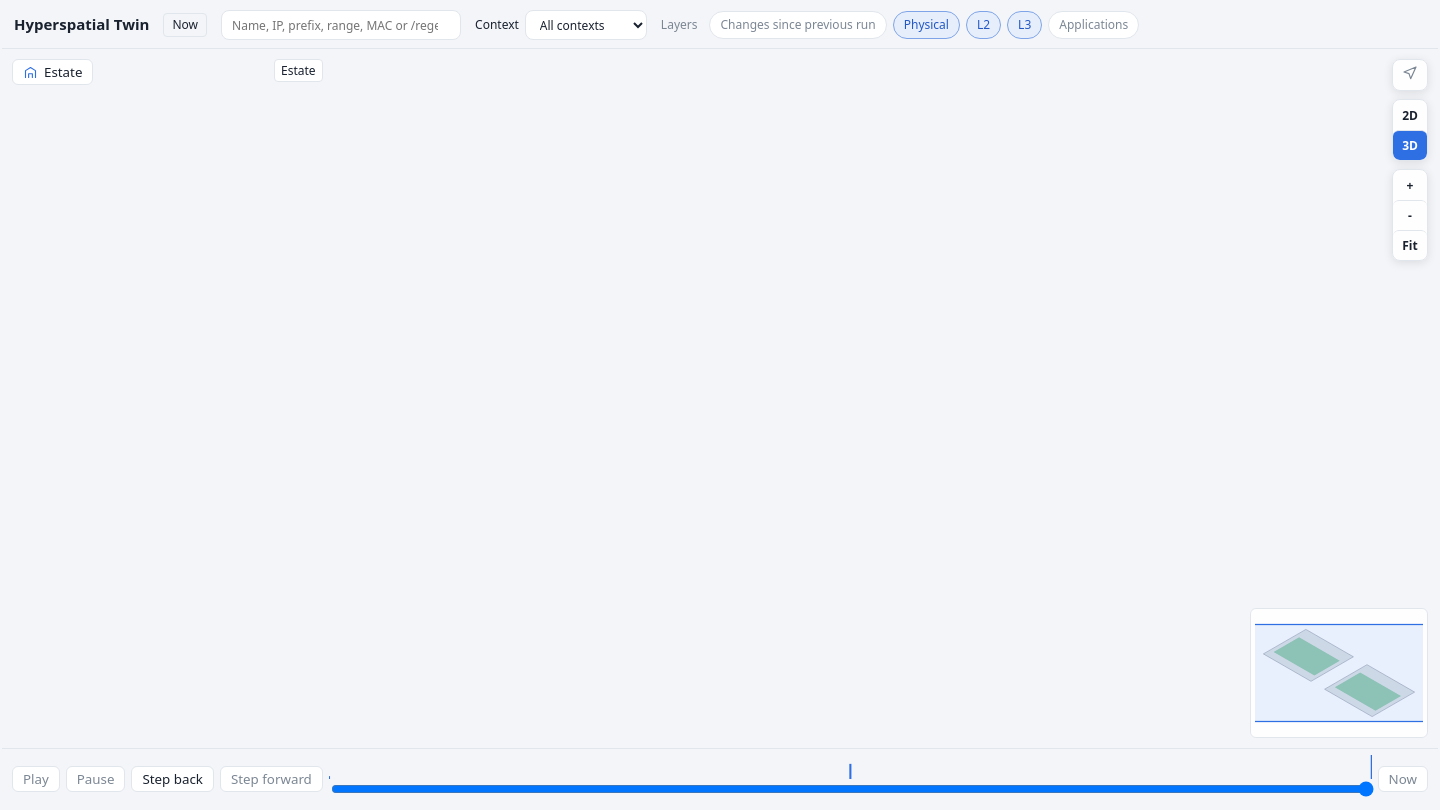
Test: HstMapPage › opens with the estate tree hidden and shows it on request
Expected: the message "Now" is shown, [164,13,207,37]
Step 1. Click the button with class "hst-tree-open" → (53, 72), box [12,59,93,85]
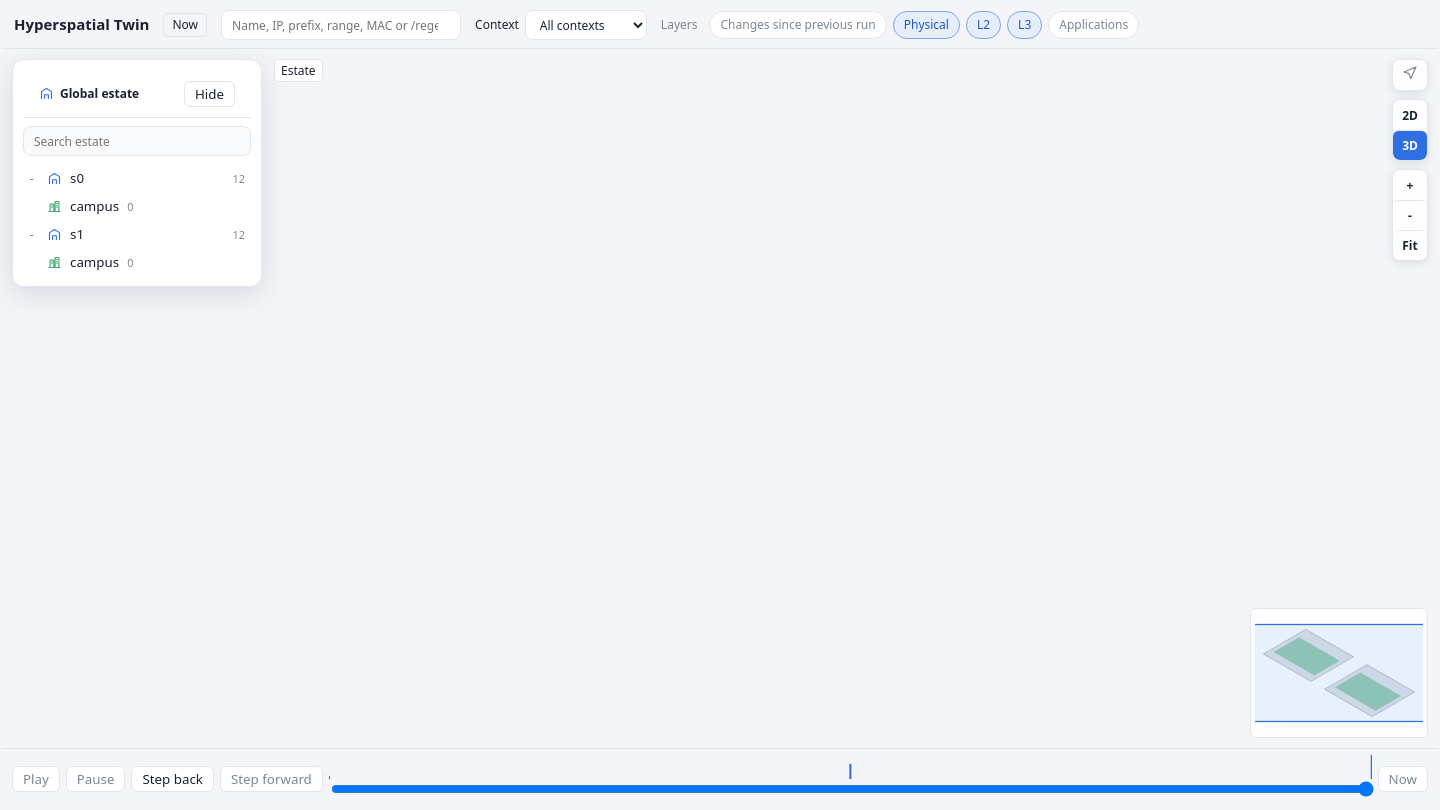
Result: the navigation bar "estate" is shown at [12,59,262,287]
